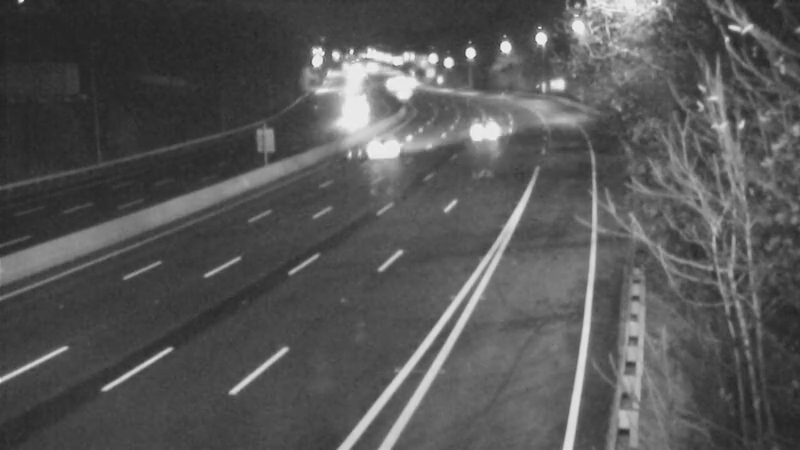vehicle: (379, 70, 429, 120), (455, 102, 505, 152), (357, 124, 407, 174), (331, 92, 381, 142)
